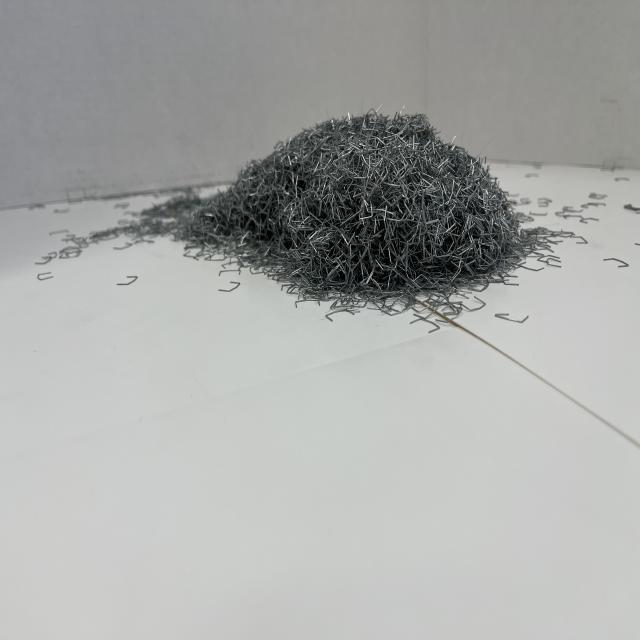staples: (186, 105, 532, 300)
